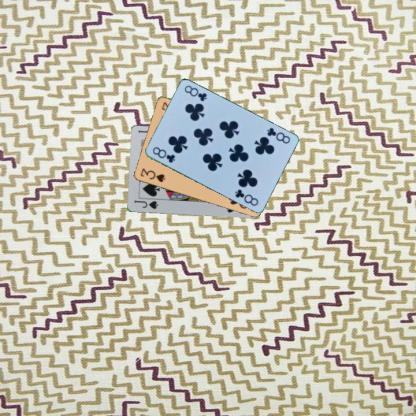3s: (138, 166, 166, 184)
8c: (264, 125, 291, 145), (150, 145, 176, 164)
Js: (132, 198, 159, 210)
